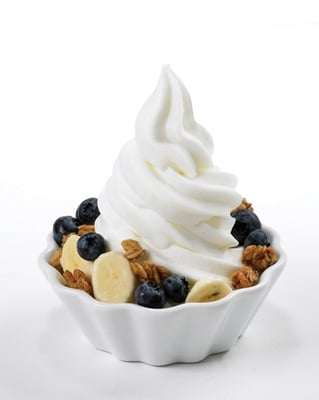pasta: (186, 277, 232, 303)
sushi: (45, 180, 287, 368)
